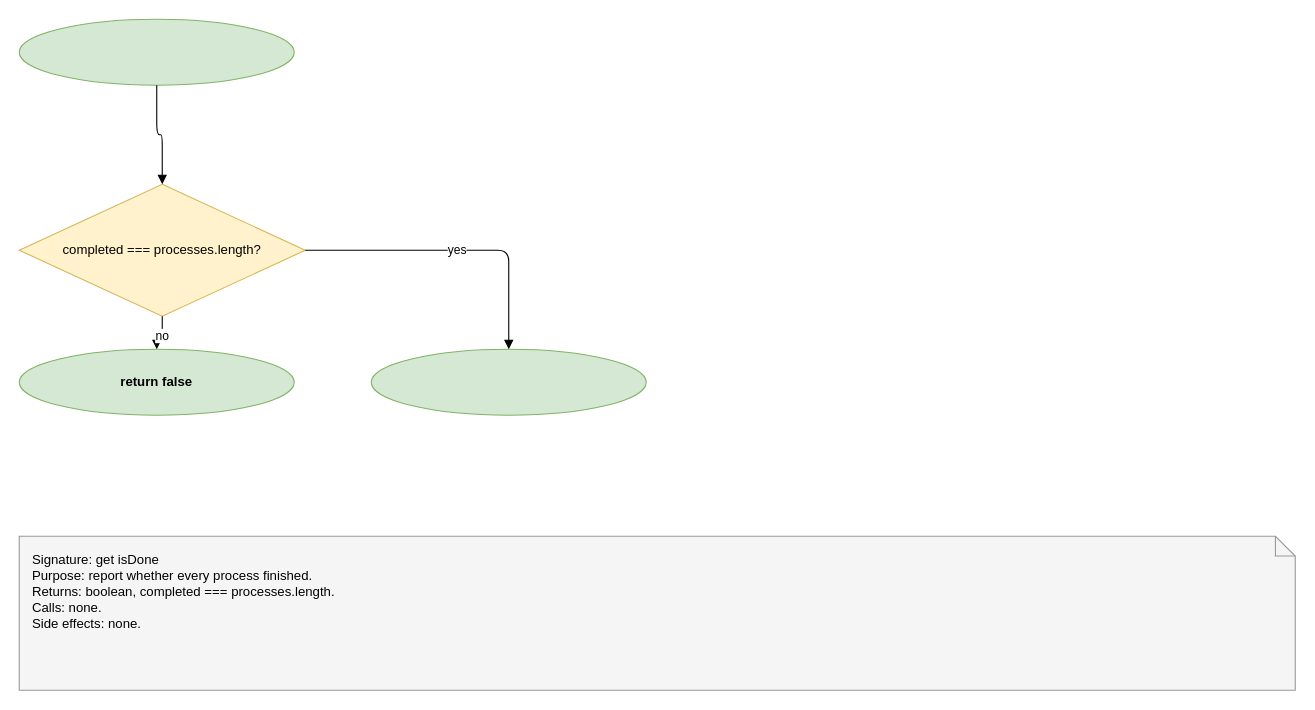
Image size: 1315x710. Some labels were removed from this diagram. The shapes that lost their labels are listed below. From the top down, each one's centre as x and y in pixels, then its label:
At (156,51): "get isDone".
At (508,381): "return true".
